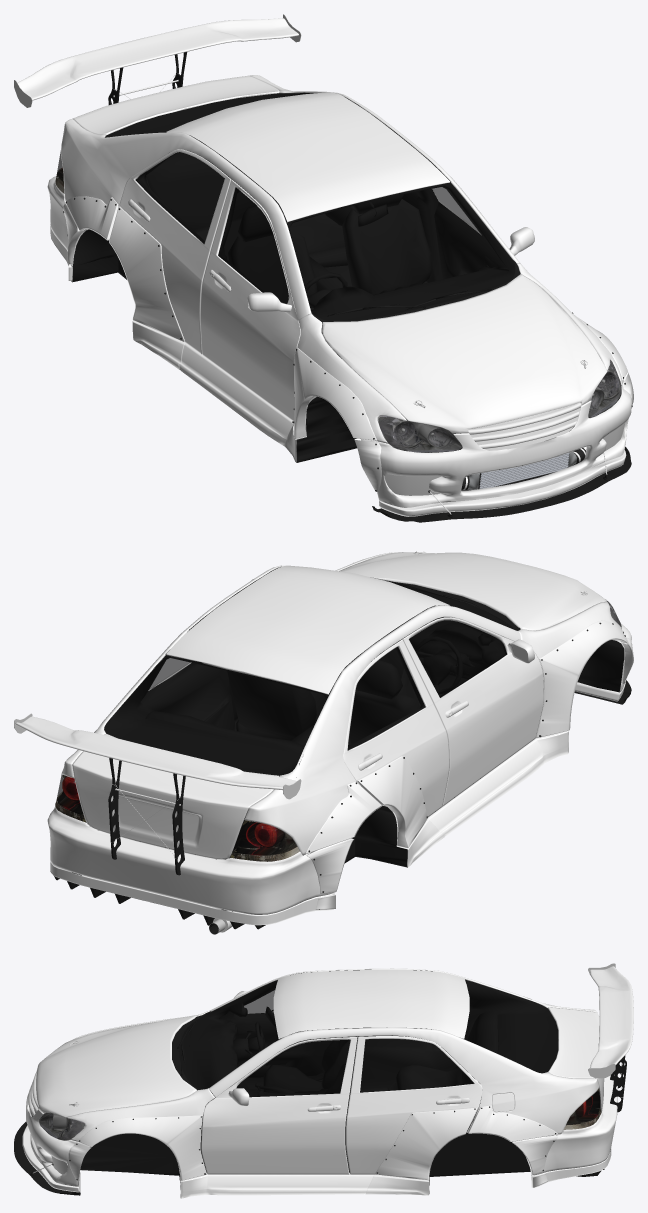
File: Sports Car.fbx
3 renders of one model, top to bottom at view 1: azimuth 30°, elevation 25°; view 2: azimuth 150°, elevation 25°; view 3: azimuth 270°, elevation 25°, orthographic. The views are drawn at different scales.
Visible parts, largest first — view 1: Sports Car; view 2: Sports Car; view 3: Sports Car.
Boxes of the visible parts, x1=… form: Sports Car: x1=14, y1=14, x2=633, y2=522; Sports Car: x1=14, y1=551, x2=633, y2=934; Sports Car: x1=14, y1=963, x2=633, y2=1198.
Size of the model in its own units: 490 by 331 by 1211.
